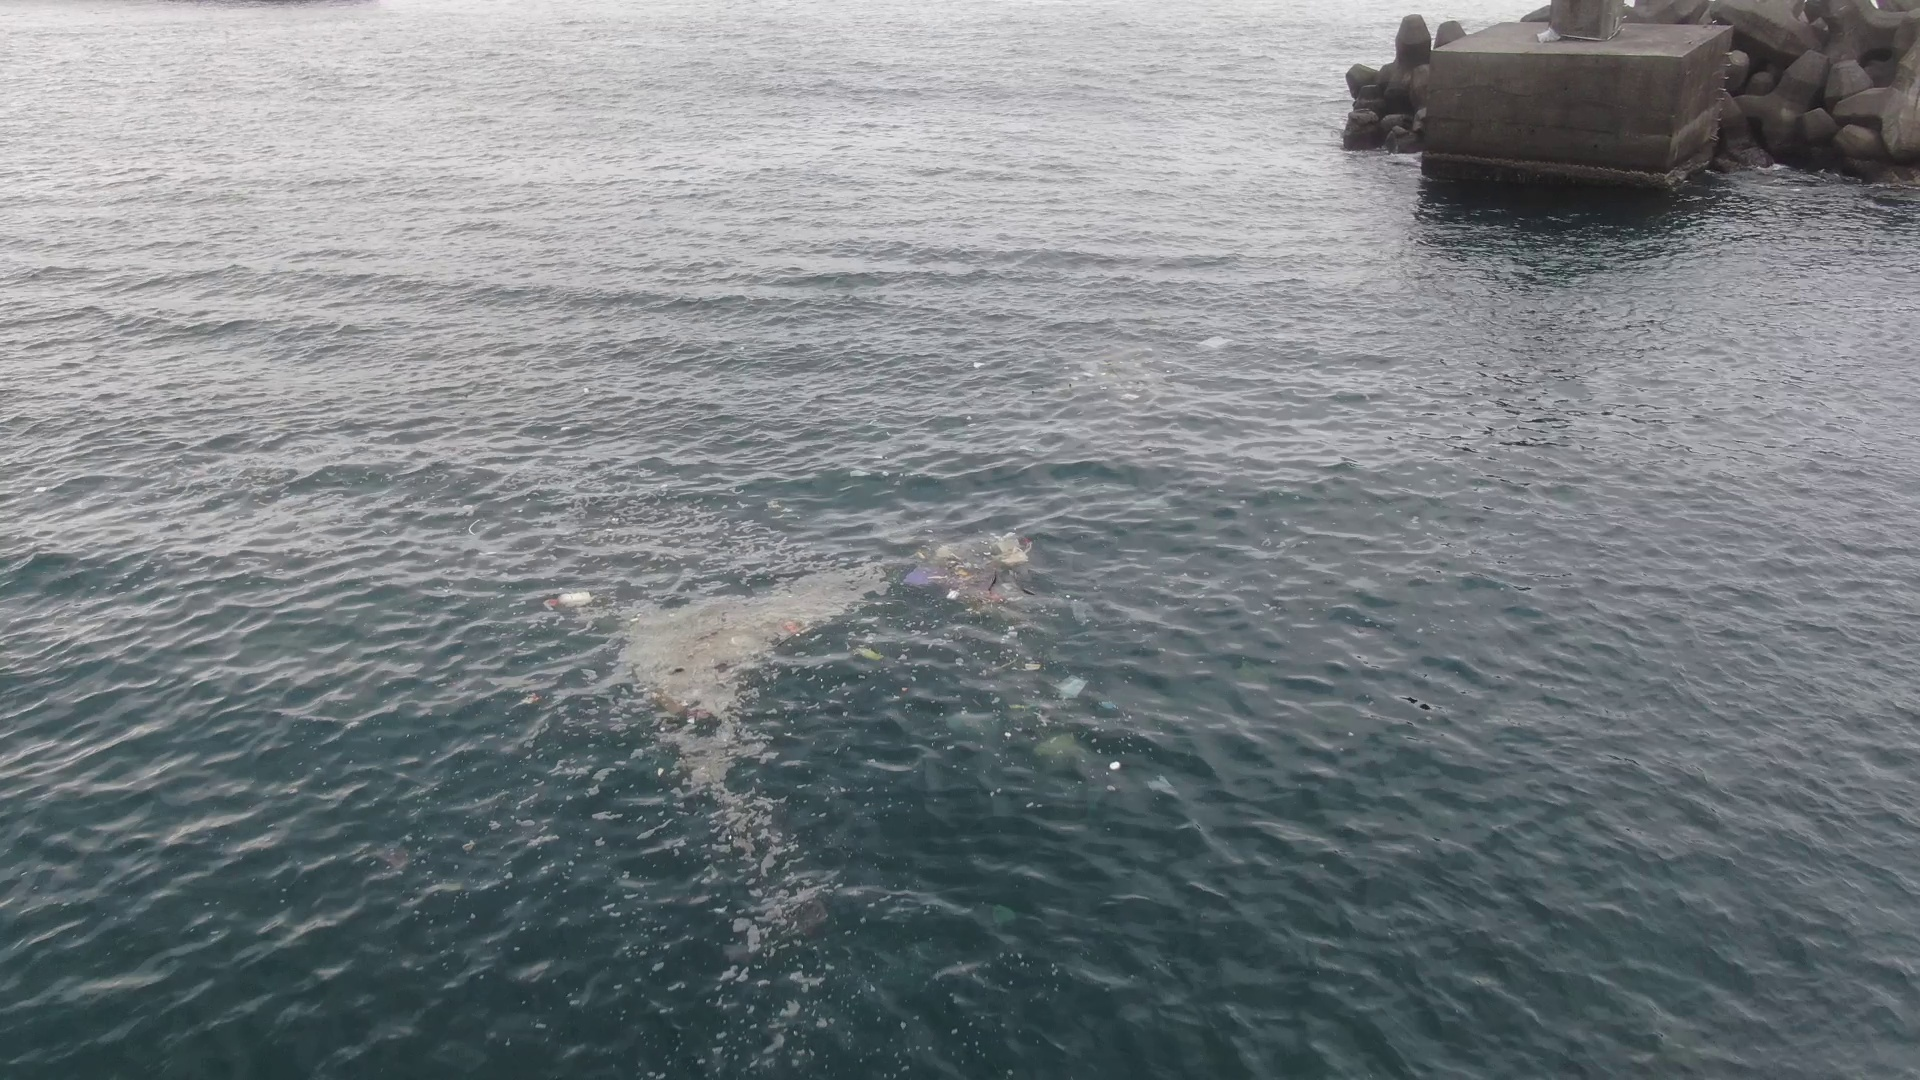garbage: (543, 529, 1089, 715), (1201, 335, 1234, 348)
